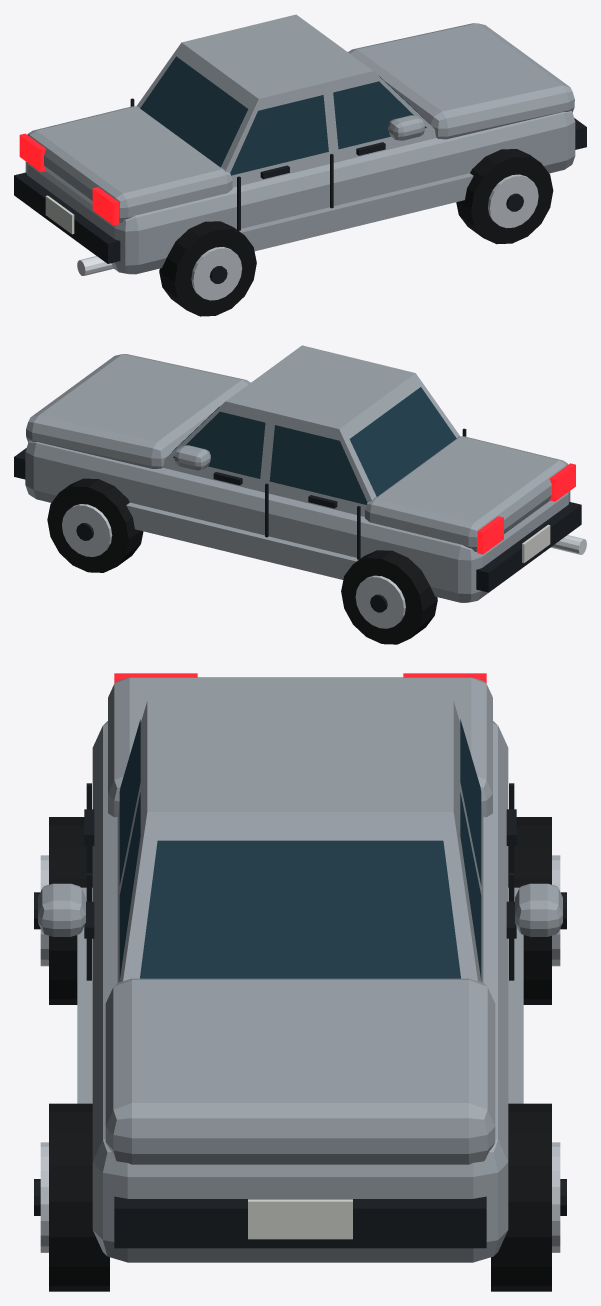
File: Stage6.glb
3 views of the same model, one above another, from view 1: azimuth 30°, elevation 25°; view 2: azimuth 150°, elevation 25°; view 3: azimuth 270°, elevation 25° (orthographic). The views are drawn at different scales.
Visible parts, largest first — view 1: LowerBody.005, CabinShell.005, Hood.005, Trunk.005, SideWindows.003, RearWindow.004, RockerPanels.005, Tire_-1.55_-1.006, Tire_1.55_-1.005, Bumpers.004, Rim_-1.55_-1.006, Rim_1.55_-1.005 (+6 smaller); view 2: LowerBody.005, CabinShell.005, Hood.005, Trunk.005, SideWindows.003, RearWindow.004, RockerPanels.005, Tire_-1.55_1.006, Tire_1.55_1.006, Bumpers.004, Rim_-1.55_1.006, Rim_1.55_1.006 (+6 smaller); view 3: Hood.005, CabinShell.005, Windshield.005, LowerBody.005, Bumpers.004, Trunk.005, Tire_1.55_-1.005, Tire_1.55_1.006, SideWindows.003, RockerPanels.005, Tire_-1.55_-1.006, Tire_-1.55_1.006 (+8 smaller).
Boxes of the visible parts, left/top/right/bottom form: LowerBody.005: left=25, top=111, right=575, bottom=274; CabinShell.005: left=136, top=14, right=436, bottom=187; Hood.005: left=348, top=23, right=574, bottom=139; Trunk.005: left=27, top=106, right=232, bottom=222; SideWindows.003: left=230, top=81, right=426, bottom=175; RearWindow.004: left=140, top=56, right=248, bottom=167; RockerPanels.005: left=239, top=173, right=473, bottom=251; Tire_-1.55_-1.006: left=159, top=221, right=256, bottom=316; Tire_1.55_-1.005: left=456, top=149, right=553, bottom=244; Bumpers.004: left=14, top=118, right=586, bottom=263; Rim_-1.55_-1.006: left=191, top=247, right=242, bottom=300; Rim_1.55_-1.005: left=488, top=174, right=538, bottom=227; LowerBody.005: left=25, top=441, right=570, bottom=602; CabinShell.005: left=163, top=345, right=460, bottom=516; Hood.005: left=26, top=354, right=250, bottom=468; Trunk.005: left=365, top=436, right=568, bottom=551; SideWindows.003: left=173, top=411, right=367, bottom=504; RearWindow.004: left=349, top=387, right=456, bottom=496; RockerPanels.005: left=126, top=502, right=358, bottom=579; Tire_-1.55_1.006: left=341, top=550, right=437, bottom=644; Tire_1.55_1.006: left=47, top=478, right=143, bottom=572; Bumpers.004: left=14, top=448, right=581, bottom=592; Rim_-1.55_1.006: left=355, top=575, right=405, bottom=628; Rim_1.55_1.006: left=62, top=504, right=112, bottom=556; Hood.005: left=105, top=978, right=495, bottom=1164; CabinShell.005: left=117, top=701, right=483, bottom=982; Windshield.005: left=140, top=840, right=460, bottom=978; LowerBody.005: left=92, top=721, right=508, bottom=1262; Bumpers.004: left=114, top=1196, right=486, bottom=1248; Trunk.005: left=108, top=677, right=492, bottom=817; Tire_1.55_-1.005: left=49, top=1103, right=109, bottom=1291; Tire_1.55_1.006: left=491, top=1103, right=551, bottom=1291; SideWindows.003: left=119, top=719, right=481, bottom=979; RockerPanels.005: left=77, top=887, right=523, bottom=1103; Tire_-1.55_-1.006: left=49, top=817, right=92, bottom=1004; Tire_-1.55_1.006: left=508, top=817, right=551, bottom=1004.
Bounding box in the file's own units: 5.18 × 1.82 × 2.44.
